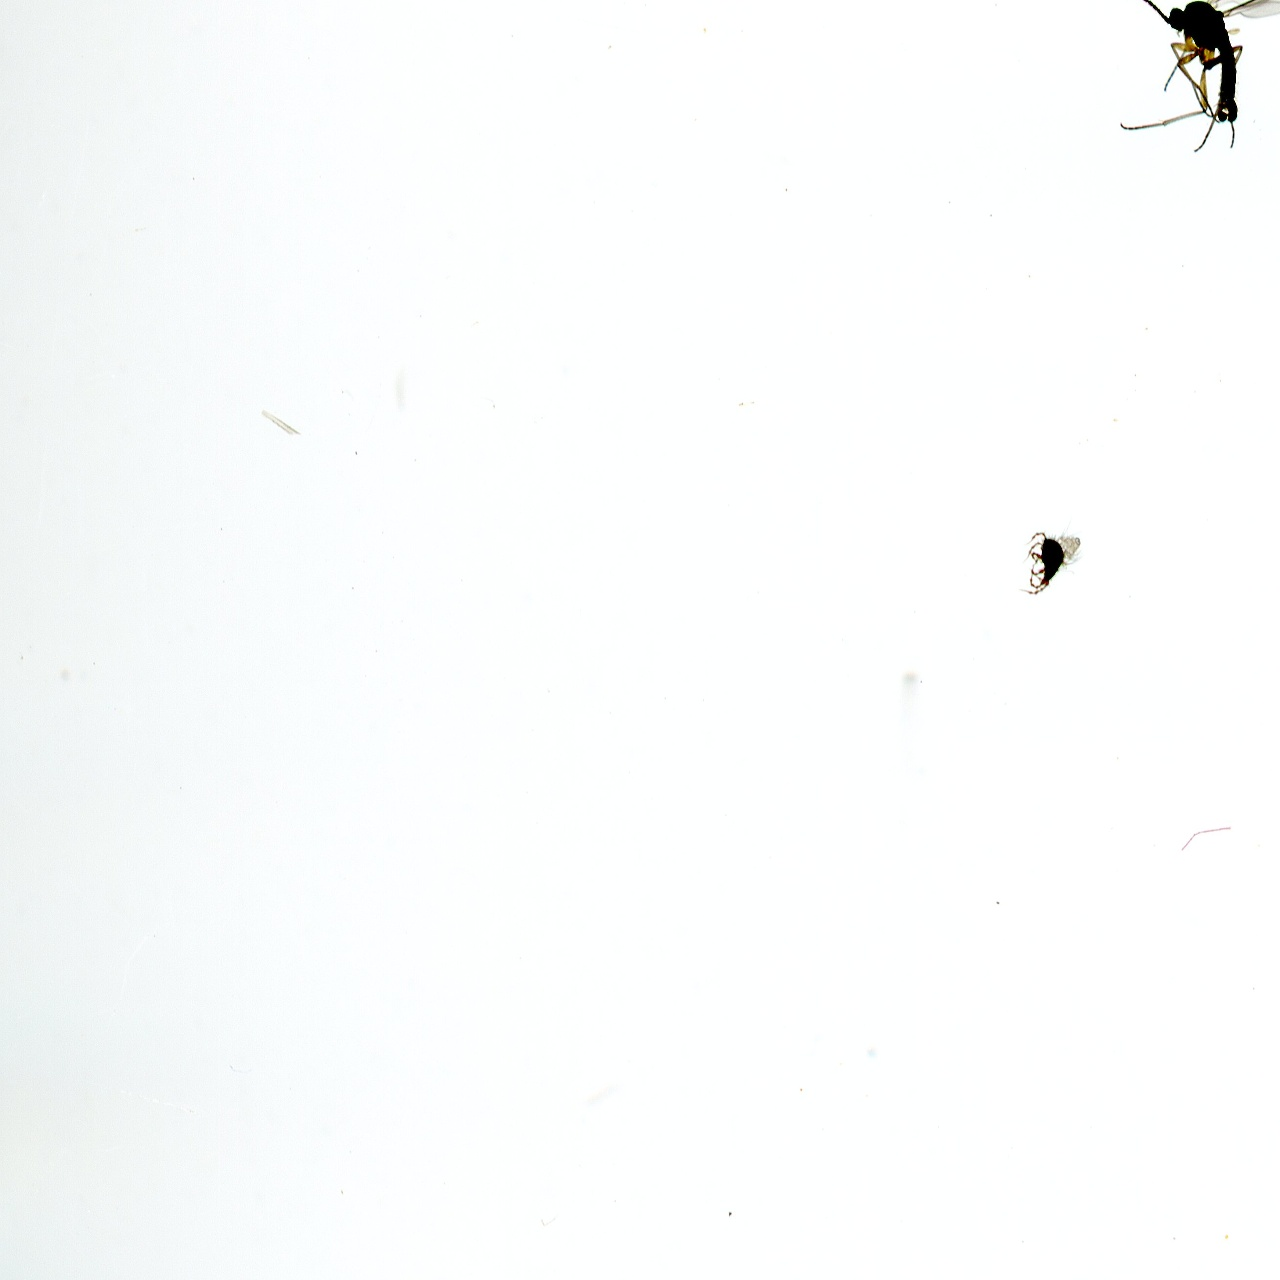arthropod: (1061, 0, 1280, 185), (1017, 518, 1085, 599)
